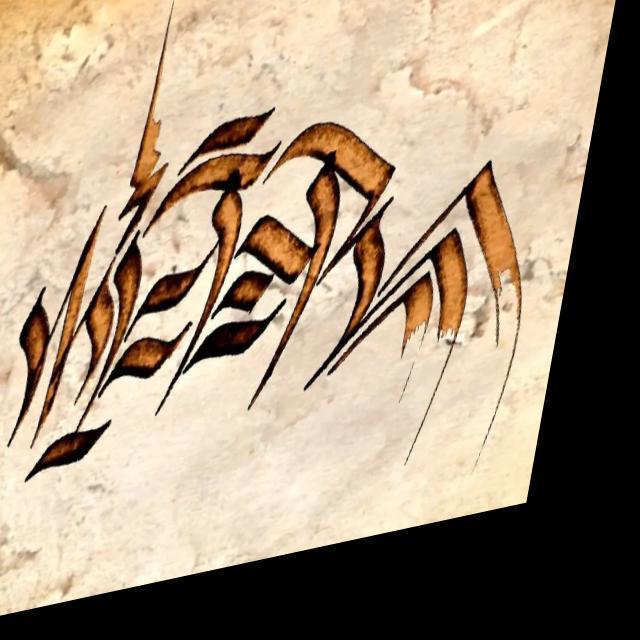-: (0, 0, 627, 601)
